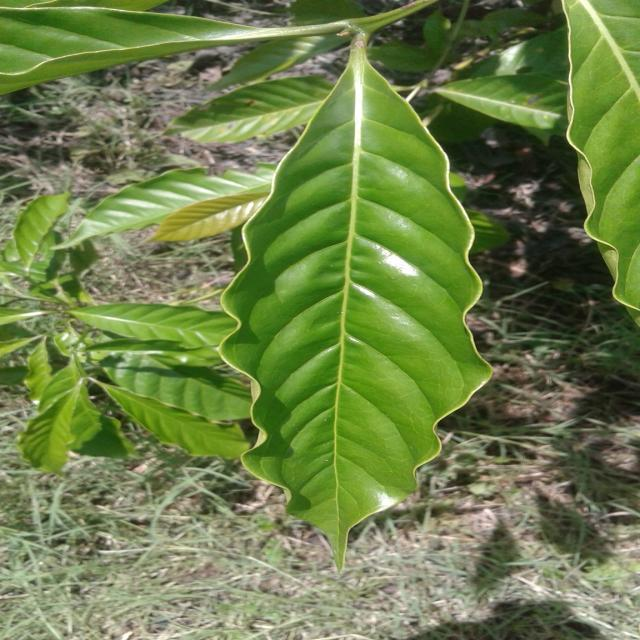Sanas: (218, 74, 493, 565)
